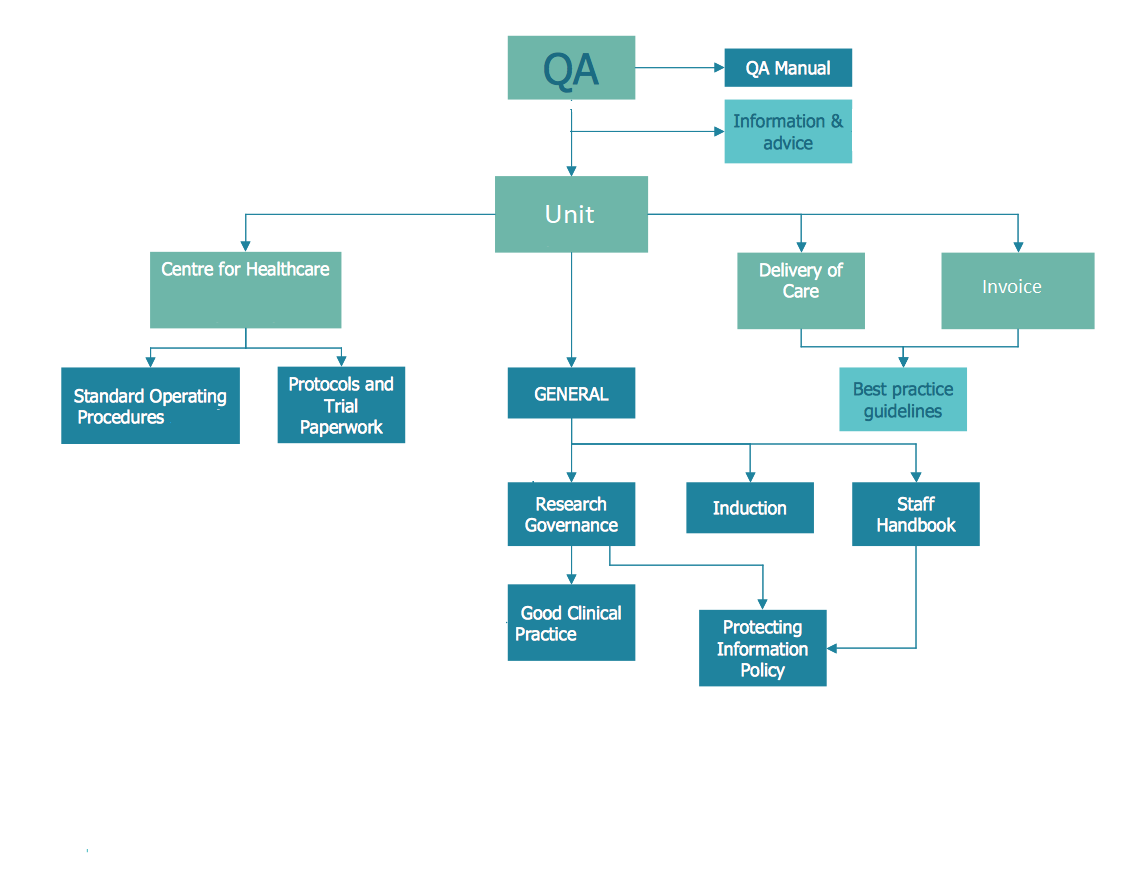arrow: (825, 545, 924, 658), (236, 210, 503, 251), (605, 543, 773, 607), (800, 208, 1025, 253), (567, 438, 759, 487), (748, 437, 925, 482), (642, 210, 808, 255), (897, 326, 1021, 372), (794, 327, 912, 368), (142, 327, 250, 370), (238, 326, 347, 366), (571, 124, 723, 139), (562, 247, 580, 369), (628, 60, 727, 76), (563, 418, 585, 485), (562, 101, 580, 178), (562, 545, 582, 584)
process: (144, 247, 346, 334), (57, 361, 247, 447), (490, 172, 653, 260), (936, 249, 1101, 334), (273, 358, 412, 449), (694, 604, 834, 689), (734, 249, 871, 334), (504, 581, 640, 665), (503, 30, 642, 105), (836, 364, 974, 437), (848, 476, 984, 550), (503, 477, 640, 550), (720, 93, 855, 166), (503, 364, 642, 424), (684, 480, 820, 539), (721, 47, 857, 93)
text: (285, 372, 397, 441), (71, 384, 228, 428), (711, 618, 811, 681), (731, 108, 846, 154), (848, 378, 955, 426), (513, 603, 624, 646), (158, 257, 332, 281), (755, 258, 848, 301), (523, 496, 620, 535), (875, 493, 958, 535), (539, 49, 608, 97), (744, 57, 836, 81), (531, 382, 613, 403), (975, 276, 1043, 300), (542, 200, 600, 227), (711, 499, 789, 519)
